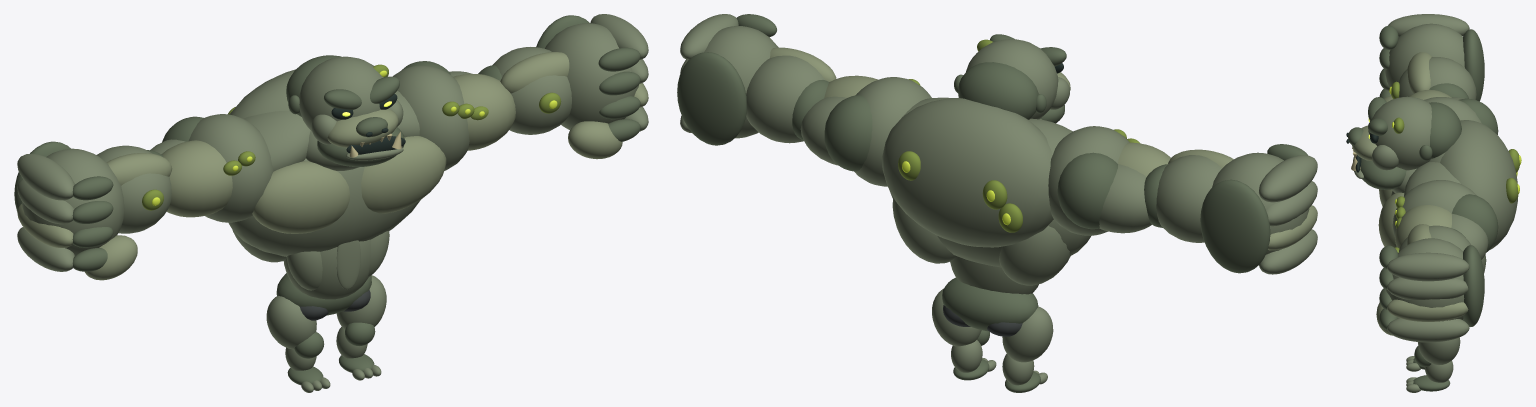
The model's file is FSA_ENEMY_C002_PlagueBeast.glb.
3 views of the same model, side by side, from view 1: azimuth 30°, elevation 25°; view 2: azimuth 150°, elevation 25°; view 3: azimuth 270°, elevation 25° (orthographic). The views are drawn at different scales.
Parts seen in each view (by area): view 1: Pectoral_R, Ribcage, Deltoid_R, FistPalm_L, Pectoral_L, Deltoid_L, Biceps_R, Cranium, ForearmMass_L, FistPalm_R, Biceps_L, ForearmMass_R (+36 smaller); view 2: HunchedBack, FistBack_R, FistBack_L, ForearmMass_L, ForearmMass_R, Deltoid_L, DeltoidRear_R, Occiput, Pelvis, Deltoid_R, DeltoidRear_L, Latissimus_R (+24 smaller); view 3: HunchedBack, Cranium, FistPalm_R, Knuckle_L3, Knuckle_L0, Deltoid_L, Knuckle_L2, ForearmMass_R, FistPalm_L, FistBack_L, Occiput, Knuckle_L1 (+33 smaller).
Boxes of the visible parts, x1,y1,x2,y2 form: Pectoral_R: [252, 161, 349, 233]; Ribcage: [228, 158, 420, 256]; Deltoid_R: [188, 114, 273, 222]; FistPalm_L: [545, 23, 638, 129]; Pectoral_L: [361, 136, 446, 213]; Deltoid_L: [393, 65, 469, 170]; Biceps_R: [161, 140, 232, 217]; Cranium: [299, 56, 383, 130]; ForearmMass_L: [492, 47, 571, 134]; FistPalm_R: [22, 148, 124, 255]; Biceps_L: [453, 74, 515, 150]; ForearmMass_R: [96, 145, 171, 233]; HunchedBack: [882, 98, 1053, 247]; FistBack_R: [1200, 179, 1270, 273]; FistBack_L: [677, 52, 746, 145]; ForearmMass_L: [746, 55, 825, 143]; ForearmMass_R: [1156, 155, 1221, 242]; Deltoid_L: [854, 77, 931, 186]; DeltoidRear_R: [1057, 152, 1117, 229]; Occiput: [958, 62, 1038, 119]; Pelvis: [942, 277, 1038, 331]; Deltoid_R: [1048, 126, 1129, 235]; DeltoidRear_L: [824, 95, 872, 171]; Latissimus_R: [999, 225, 1070, 285]; HunchedBack: [1440, 120, 1518, 249]; Cranium: [1368, 96, 1431, 170]; FistPalm_R: [1385, 23, 1464, 87]; Knuckle_L3: [1387, 252, 1469, 281]; Knuckle_L0: [1387, 318, 1469, 342]; Deltoid_L: [1392, 180, 1476, 236]; Knuckle_L2: [1387, 277, 1468, 300]; ForearmMass_R: [1398, 57, 1476, 99]; FistPalm_L: [1386, 238, 1464, 321]; FistBack_L: [1463, 245, 1484, 326]; Occiput: [1429, 102, 1461, 158]; Knuckle_L1: [1387, 299, 1468, 321].
Bounding box in the file's own units: 7.72 × 3.96 × 2.26.
